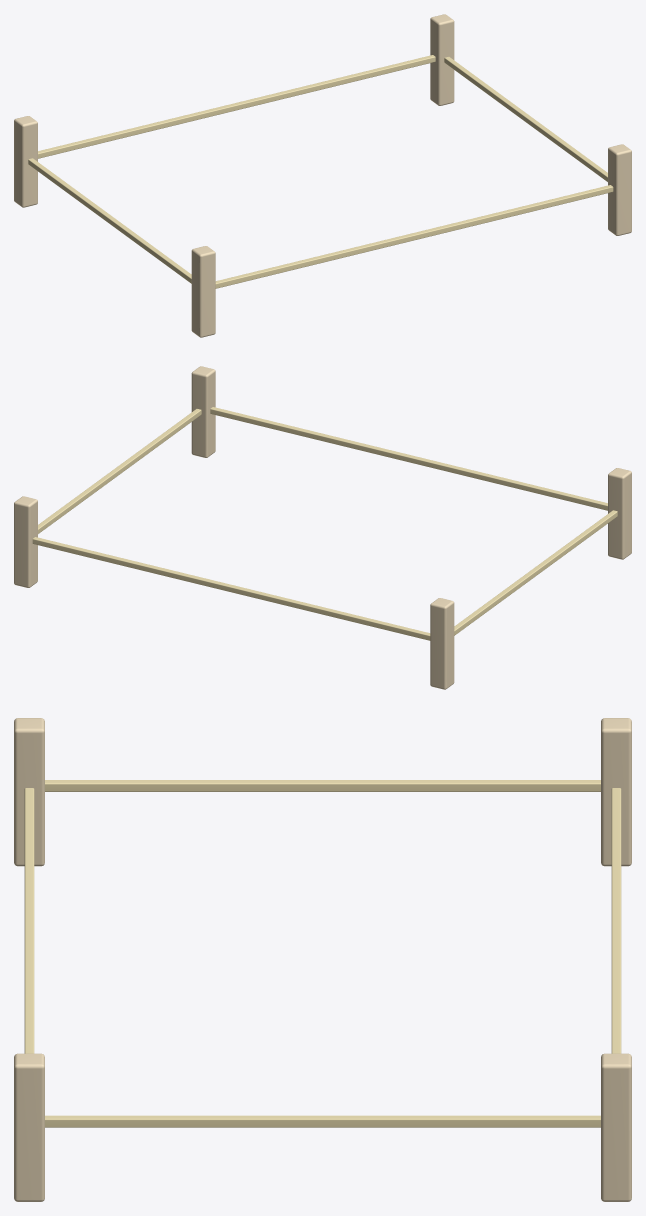
Rendered from goat-shelter-planned.glb.
3 views of the same model, one above another, from view 1: azimuth 30°, elevation 25°; view 2: azimuth 150°, elevation 25°; view 3: azimuth 270°, elevation 25° (orthographic). The views are drawn at different scales.
Visible parts, largest first — view 1: Setting-out cord.020, Setting-out cord.021, Survey peg.020, Survey peg.022, Survey peg.023, Survey peg.021, Setting-out cord.022, Setting-out cord.023; view 2: Setting-out cord.021, Setting-out cord.020, Survey peg.021, Survey peg.023, Survey peg.022, Survey peg.020, Setting-out cord.022, Setting-out cord.023; view 3: Setting-out cord.023, Setting-out cord.022, Survey peg.022, Survey peg.023, Survey peg.020, Survey peg.021, Setting-out cord.020, Setting-out cord.021.
Part boxes in pixels (bbox=[...]): Setting-out cord.020: bbox=[215, 185, 613, 288]; Setting-out cord.021: bbox=[38, 55, 435, 158]; Survey peg.020: bbox=[191, 246, 215, 337]; Survey peg.022: bbox=[608, 144, 631, 235]; Survey peg.023: bbox=[430, 14, 454, 105]; Survey peg.021: bbox=[14, 116, 37, 207]; Setting-out cord.022: bbox=[28, 158, 191, 283]; Setting-out cord.023: bbox=[444, 57, 607, 181]; Setting-out cord.021: bbox=[32, 537, 430, 640]; Setting-out cord.020: bbox=[210, 407, 607, 510]; Survey peg.021: bbox=[430, 598, 454, 689]; Survey peg.023: bbox=[14, 496, 37, 587]; Survey peg.022: bbox=[191, 366, 215, 457]; Survey peg.020: bbox=[608, 468, 631, 559]; Setting-out cord.022: bbox=[454, 510, 617, 635]; Setting-out cord.023: bbox=[38, 409, 201, 533]; Setting-out cord.023: bbox=[45, 1115, 600, 1127]; Setting-out cord.022: bbox=[45, 780, 600, 791]; Survey peg.022: bbox=[14, 1053, 44, 1201]; Survey peg.023: bbox=[601, 1053, 631, 1201]; Survey peg.020: bbox=[14, 718, 44, 866]; Survey peg.021: bbox=[601, 718, 631, 866]; Setting-out cord.020: bbox=[24, 788, 34, 1053]; Setting-out cord.021: bbox=[611, 788, 621, 1053].
Size of the model in its own units: 2.39 by 0.44 by 1.79.
